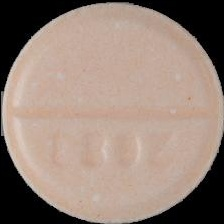55154-6343: (0, 0, 224, 224)
